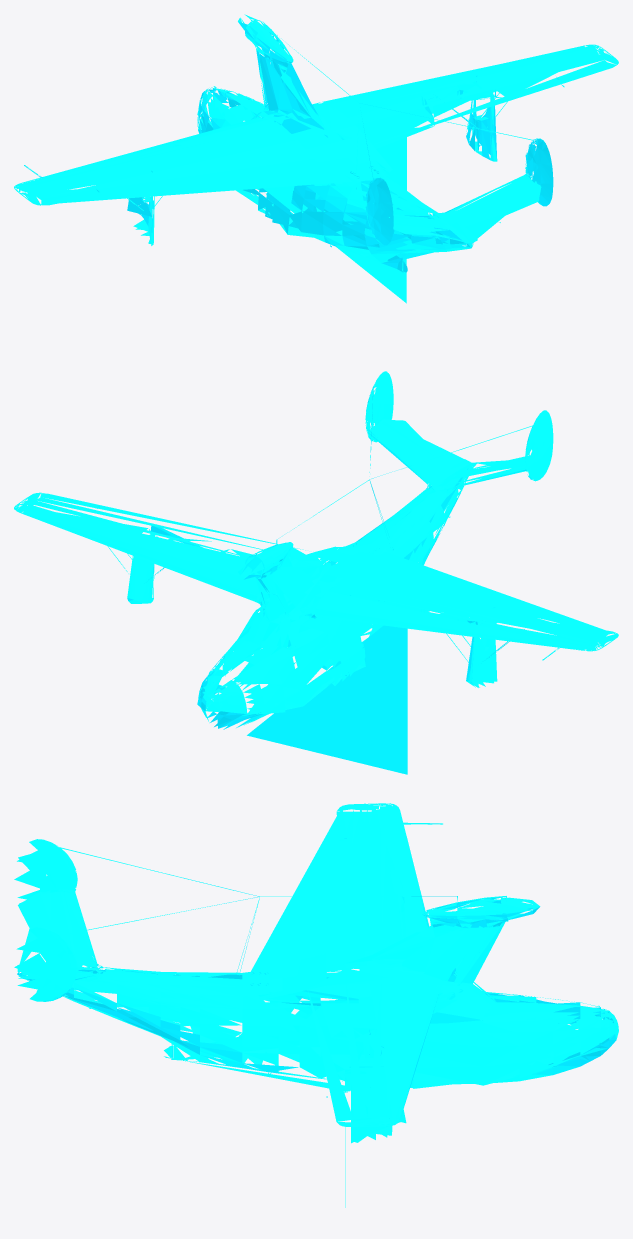
The model's file is PRAS009.glb.
The picture shows the model from 3 angles, top to bottom: view 1: azimuth 30°, elevation 25°; view 2: azimuth 150°, elevation 25°; view 3: azimuth 270°, elevation 25°; orthographic projection. The views are drawn at different scales.
Parts seen in each view (by area): view 1: misc; view 2: misc; view 3: misc.
Part boxes in pixels (x1,y1,x2,y2): misc: (14, 14, 618, 303); misc: (14, 371, 618, 774); misc: (14, 803, 618, 1207).
Size of the model in its own units: 0.7999 by 0.3437 by 0.6333.
